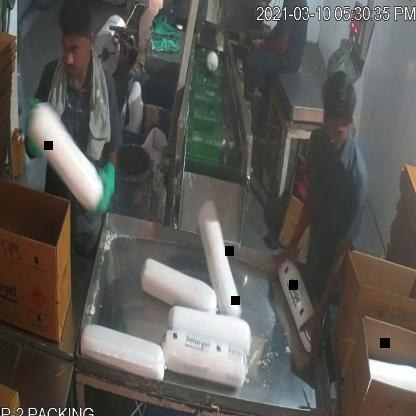no_glove: (294, 224, 361, 362), (275, 170, 327, 284)
